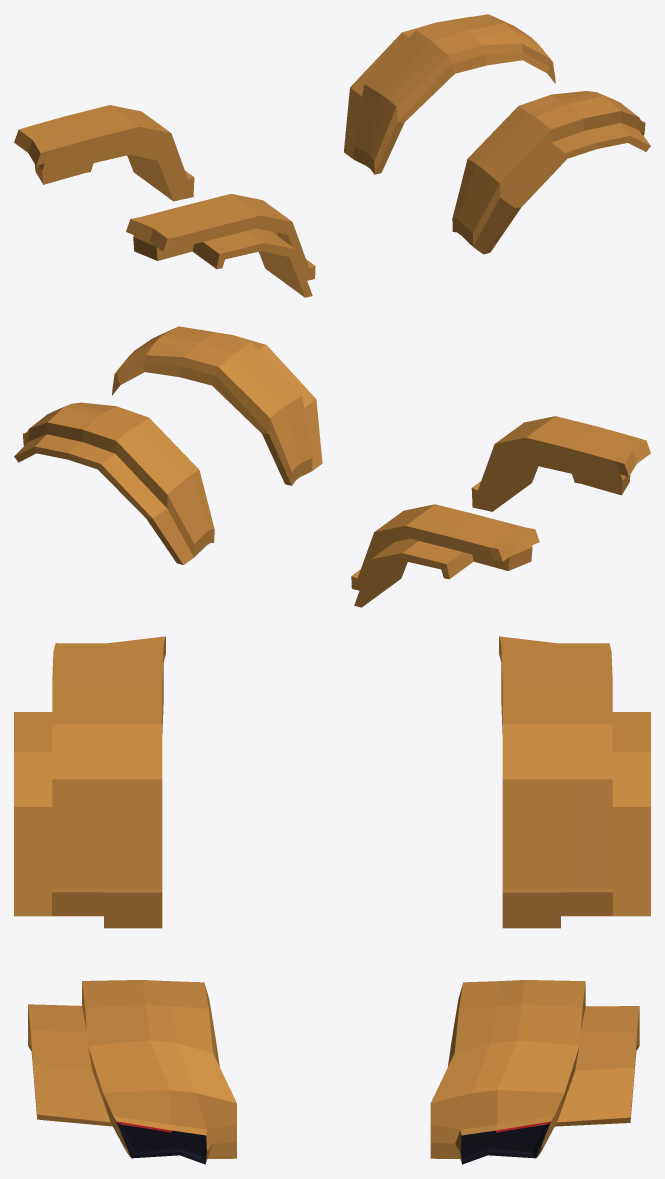
Rendered from Car_Wheel_Covers.fbx.
The picture shows the model from 3 angles, top to bottom: view 1: azimuth 30°, elevation 25°; view 2: azimuth 150°, elevation 25°; view 3: azimuth 270°, elevation 25°; orthographic projection. The views are drawn at different scales.
Visible parts, largest first — view 1: Car_Wheel_Covers; view 2: Car_Wheel_Covers; view 3: Car_Wheel_Covers.
Part boxes in pixels (x1,y1,x2,y2): Car_Wheel_Covers: (14,14,650,297); Car_Wheel_Covers: (14,326,650,607); Car_Wheel_Covers: (14,636,650,1164).
Size of the model in its own units: 238 by 407 by 84.6.
